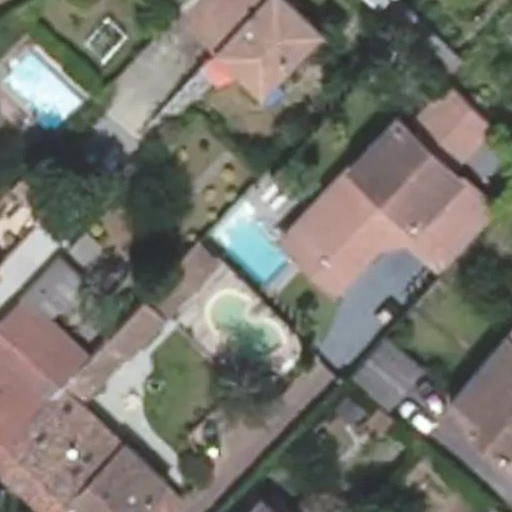pool: (216, 231, 301, 252)
